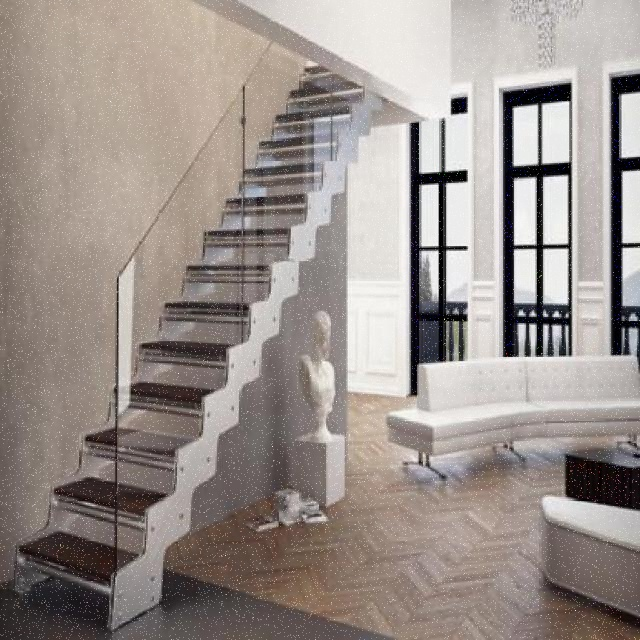stair: (3, 53, 380, 639)
